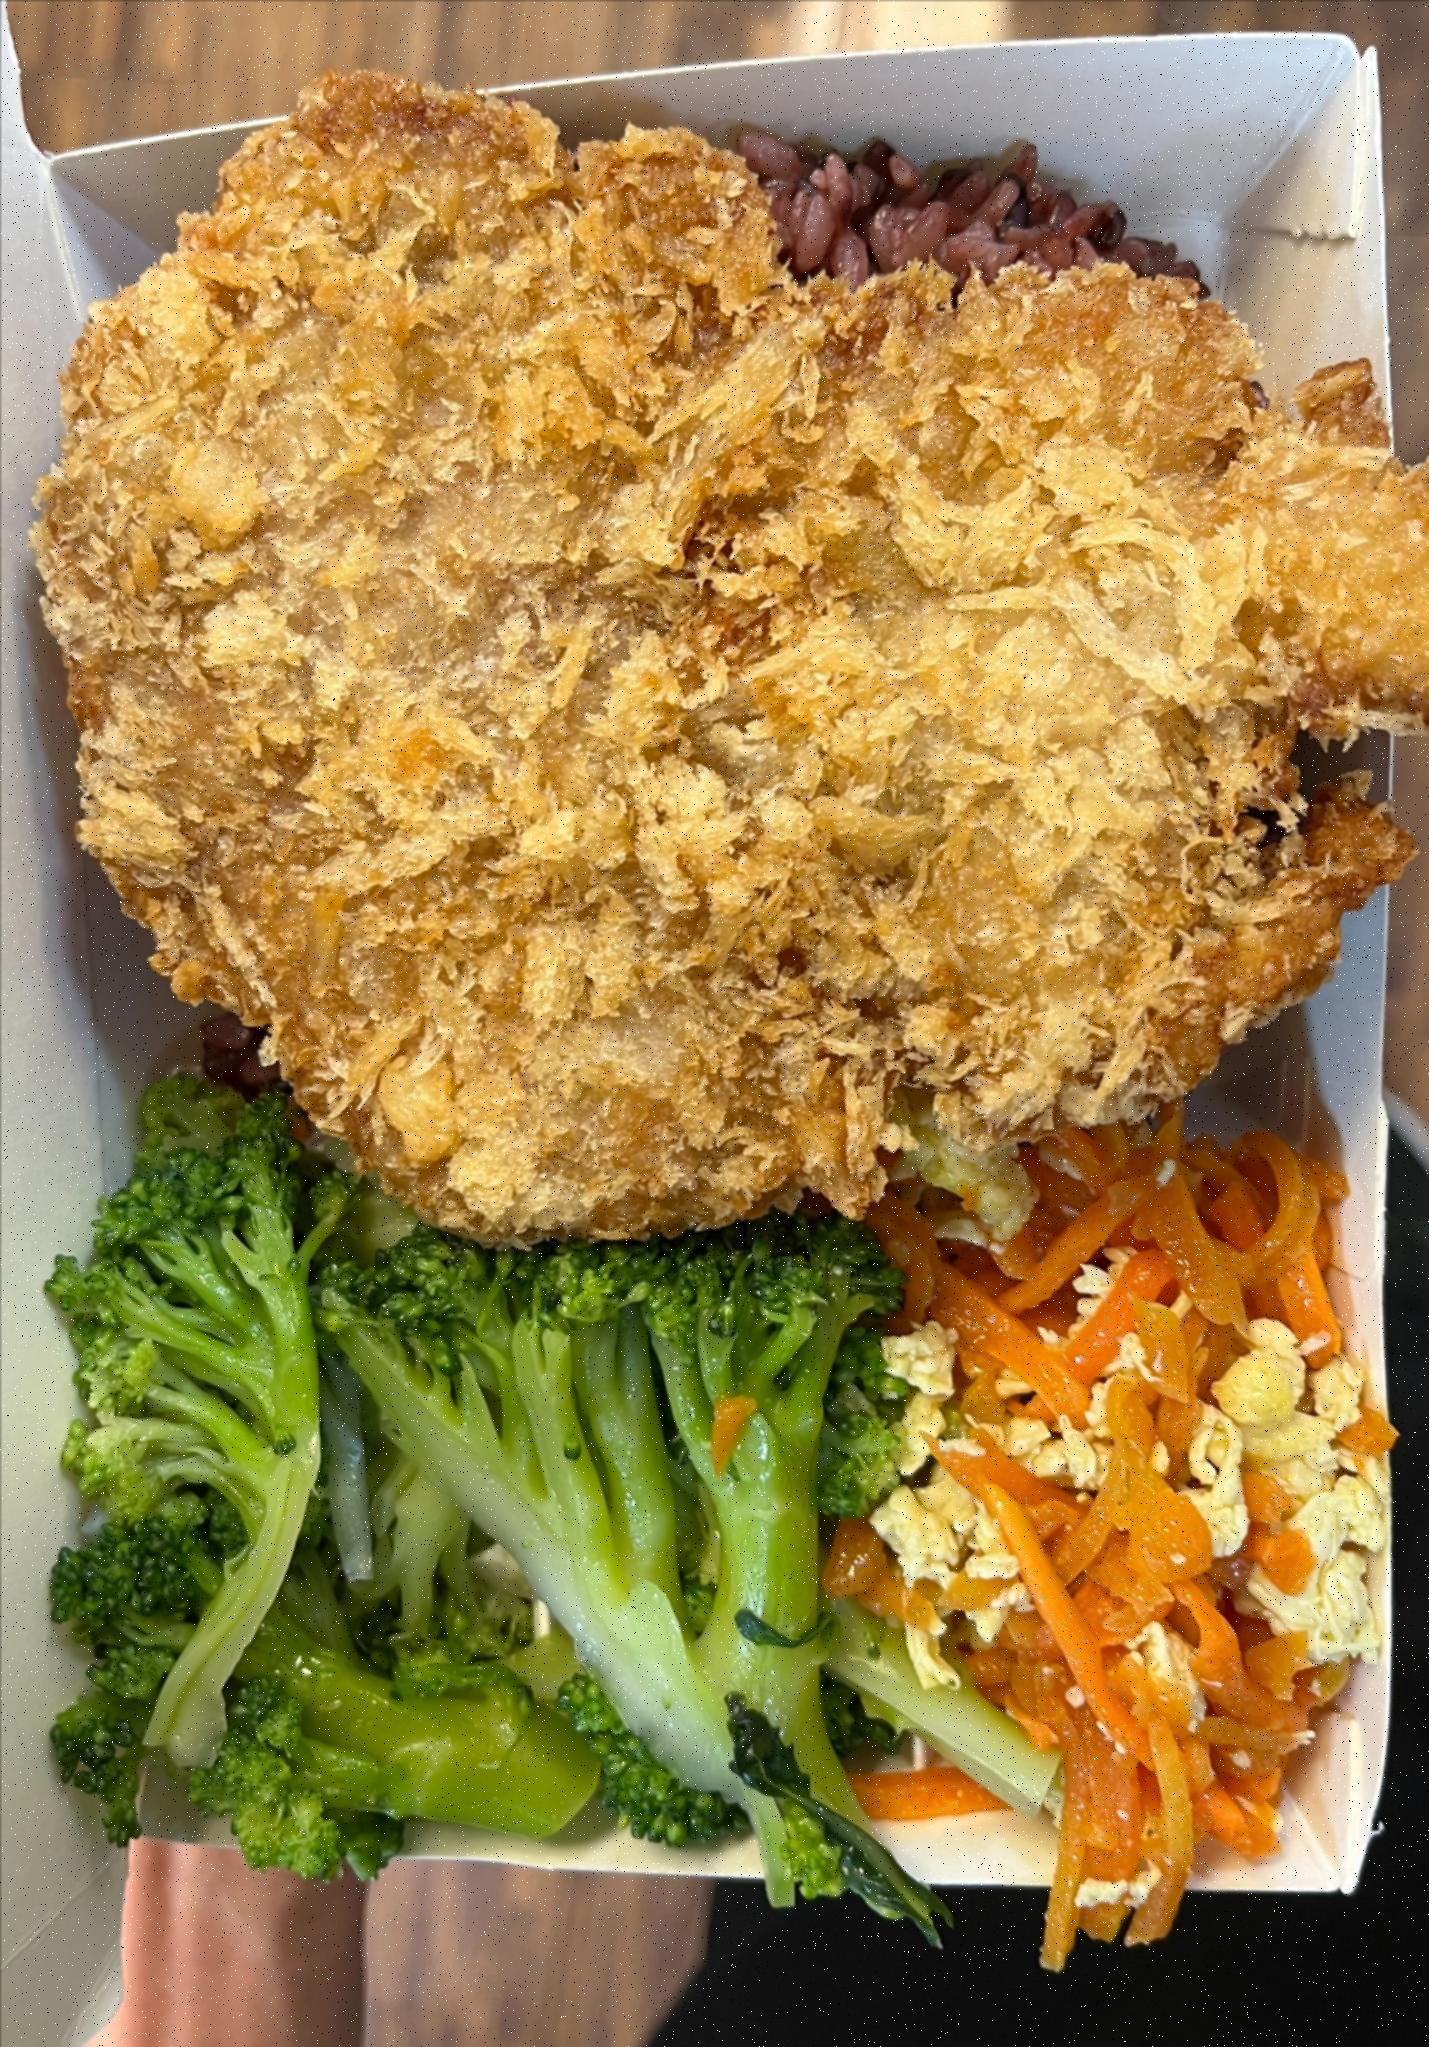box: (0, 1, 1391, 1964)
fried pork chops: (42, 62, 1422, 1242)
purple rice: (151, 141, 1289, 1074)
side dish: (41, 1137, 892, 1838), (878, 1091, 1350, 1838)
